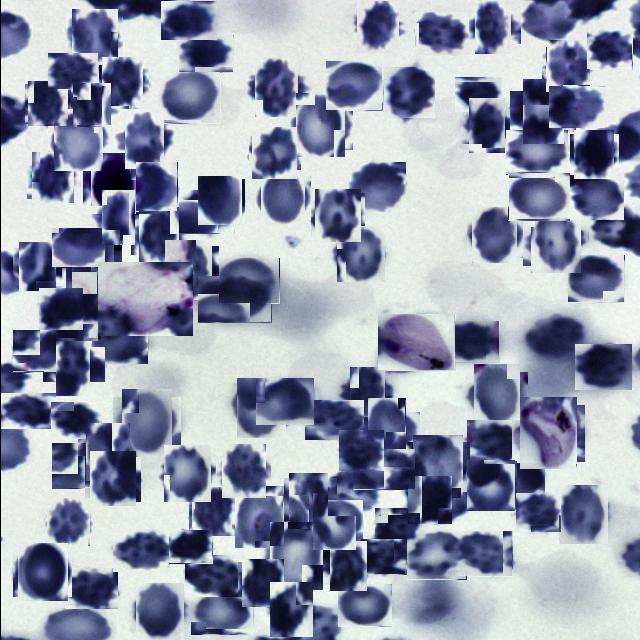leukocyte: (86, 156, 140, 210)
red blood cell: (265, 526, 326, 587), (116, 393, 176, 452), (197, 276, 271, 323), (526, 212, 584, 270), (408, 438, 466, 496), (159, 70, 220, 124), (292, 96, 348, 154), (231, 489, 287, 545), (50, 112, 106, 168), (507, 173, 570, 222), (233, 381, 288, 436), (523, 313, 588, 359), (15, 544, 68, 600), (406, 531, 466, 580), (556, 488, 610, 542), (468, 368, 522, 422), (161, 243, 215, 297), (348, 162, 405, 212), (325, 61, 382, 111), (505, 130, 568, 175), (255, 378, 314, 426), (516, 84, 568, 138), (218, 258, 279, 304), (51, 442, 111, 488), (132, 586, 185, 638), (359, 405, 412, 457), (567, 255, 624, 303), (334, 228, 386, 280), (160, 447, 212, 499), (250, 61, 301, 113), (80, 427, 132, 478), (190, 592, 253, 634), (574, 344, 631, 390), (383, 67, 434, 118), (468, 210, 520, 260), (352, 449, 415, 490), (68, 12, 119, 62), (86, 454, 137, 504), (457, 531, 512, 577), (568, 174, 623, 220), (257, 173, 307, 223), (312, 191, 362, 241), (218, 446, 268, 496), (68, 242, 118, 292), (466, 460, 516, 510), (308, 496, 358, 546), (266, 584, 316, 634), (12, 330, 70, 373), (184, 555, 243, 597), (178, 190, 234, 234), (112, 529, 169, 572), (352, 1, 402, 50), (327, 470, 380, 516), (466, 420, 524, 462), (337, 584, 392, 628), (414, 12, 469, 56), (489, 454, 544, 498), (542, 42, 592, 90), (250, 128, 298, 178), (442, 321, 499, 363), (304, 400, 363, 440), (548, 86, 604, 128), (28, 154, 76, 202), (134, 211, 182, 259), (120, 116, 168, 164), (286, 476, 334, 524), (91, 323, 147, 364), (48, 341, 96, 388), (98, 60, 145, 107), (195, 178, 242, 225), (406, 476, 452, 524), (160, 1, 216, 40), (64, 568, 117, 609), (469, 2, 515, 49), (51, 228, 105, 268), (45, 499, 91, 545), (190, 488, 236, 534), (238, 560, 284, 606), (135, 162, 177, 212), (178, 35, 233, 73), (464, 102, 509, 148), (54, 295, 99, 340), (571, 132, 616, 177), (0, 393, 55, 429), (14, 244, 58, 288), (326, 544, 370, 588), (96, 195, 140, 239), (38, 288, 83, 331), (25, 82, 68, 126), (50, 402, 101, 439), (47, 53, 98, 90), (346, 370, 388, 414), (337, 430, 382, 471), (586, 30, 632, 70), (514, 493, 560, 533), (358, 539, 409, 575), (70, 84, 112, 126), (374, 508, 419, 547), (454, 77, 502, 113), (168, 530, 212, 564)
trophozoite: (97, 262, 192, 336), (376, 314, 454, 371), (515, 401, 580, 466)
